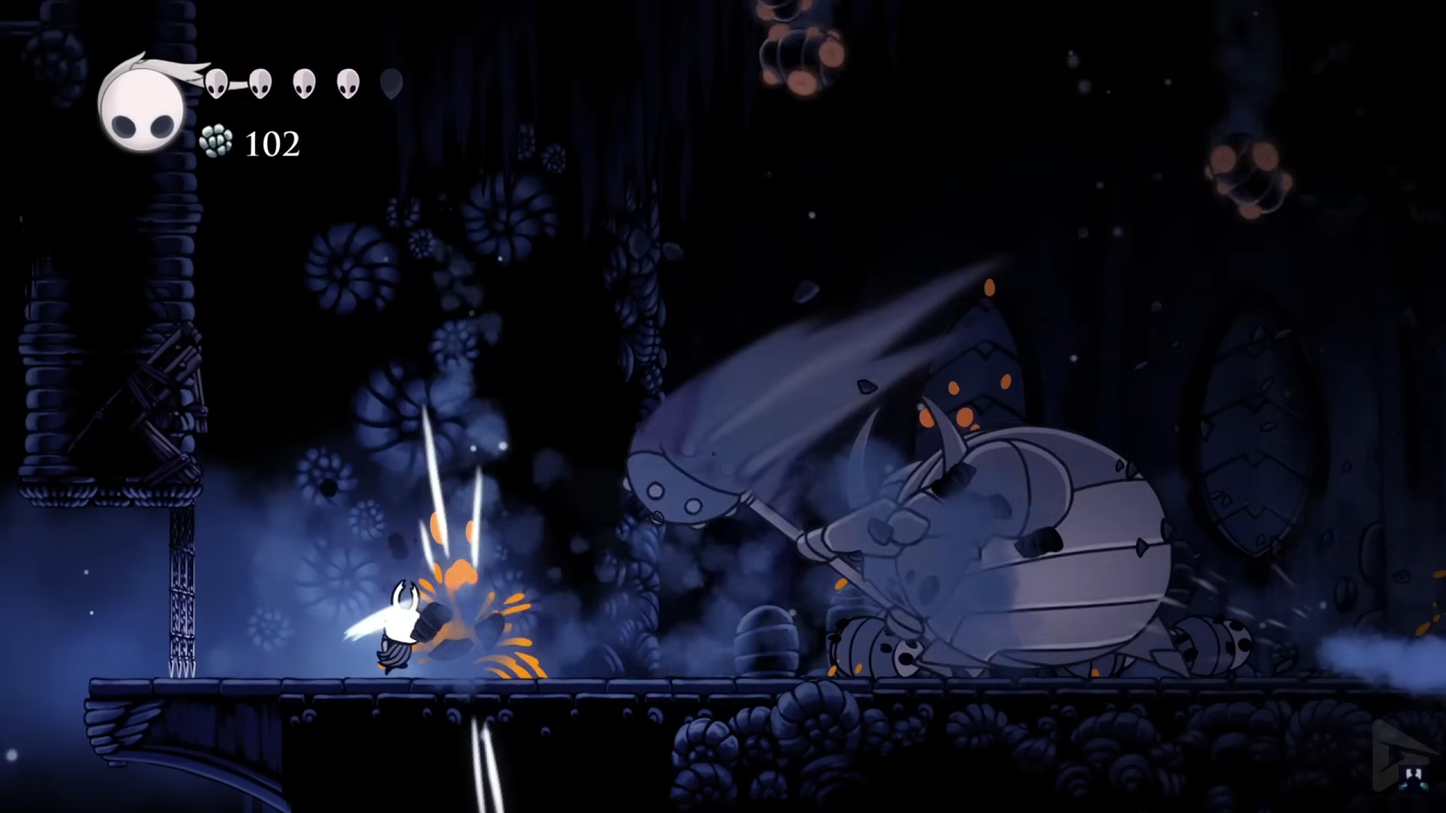HK: (367, 577, 429, 680)
